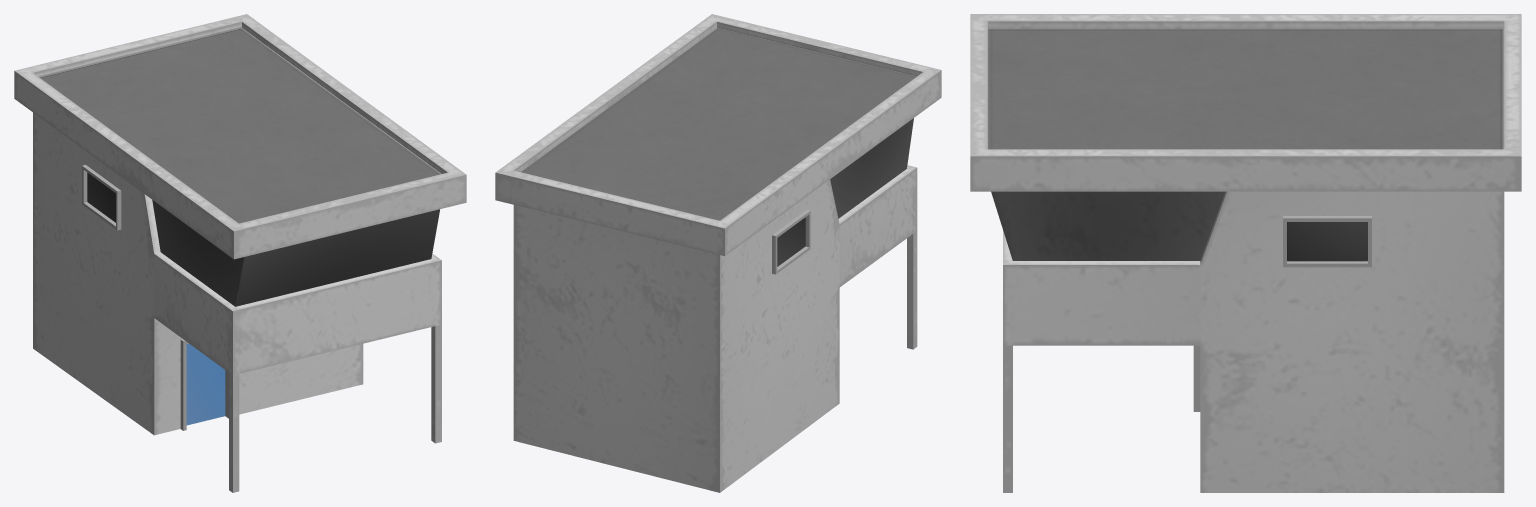
Rendered from SM_Building_02.fbx.
3 renders of one model, left to right at view 1: azimuth 30°, elevation 25°; view 2: azimuth 150°, elevation 25°; view 3: azimuth 270°, elevation 25°, orthographic. The views are drawn at different scales.
Visible parts, largest first — view 1: SM_Building_02; view 2: SM_Building_02; view 3: SM_Building_02.
Part boxes in pixels (x1,y1,x2,y2): SM_Building_02: (14,14,466,492); SM_Building_02: (495,14,941,492); SM_Building_02: (970,14,1521,492).
Size of the model in its own units: 619 by 701 by 1011.
